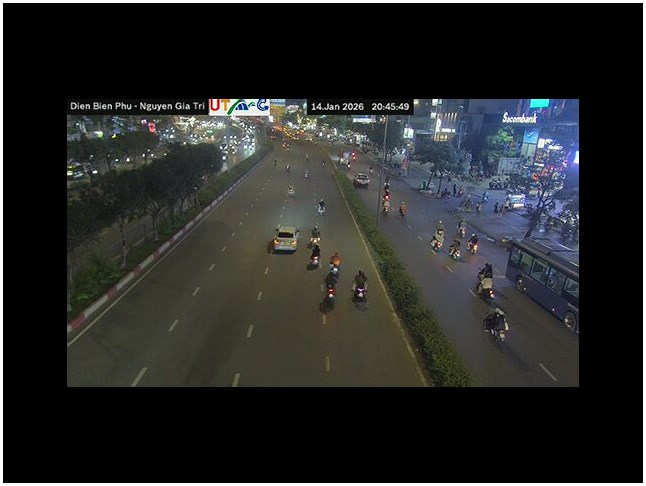car: (268, 227, 298, 255), (354, 174, 371, 188)
motorbike: (483, 307, 510, 341), (474, 262, 497, 298), (353, 271, 369, 298), (323, 270, 336, 302), (448, 236, 461, 261), (429, 230, 444, 249), (330, 248, 342, 271), (456, 215, 468, 238), (469, 233, 480, 256), (436, 215, 447, 235), (311, 245, 320, 267), (286, 179, 296, 198), (311, 222, 320, 243), (380, 175, 391, 191), (282, 159, 292, 176), (302, 165, 313, 180), (380, 196, 390, 212), (317, 197, 326, 214), (398, 200, 407, 216)
truck: (506, 234, 579, 332)
